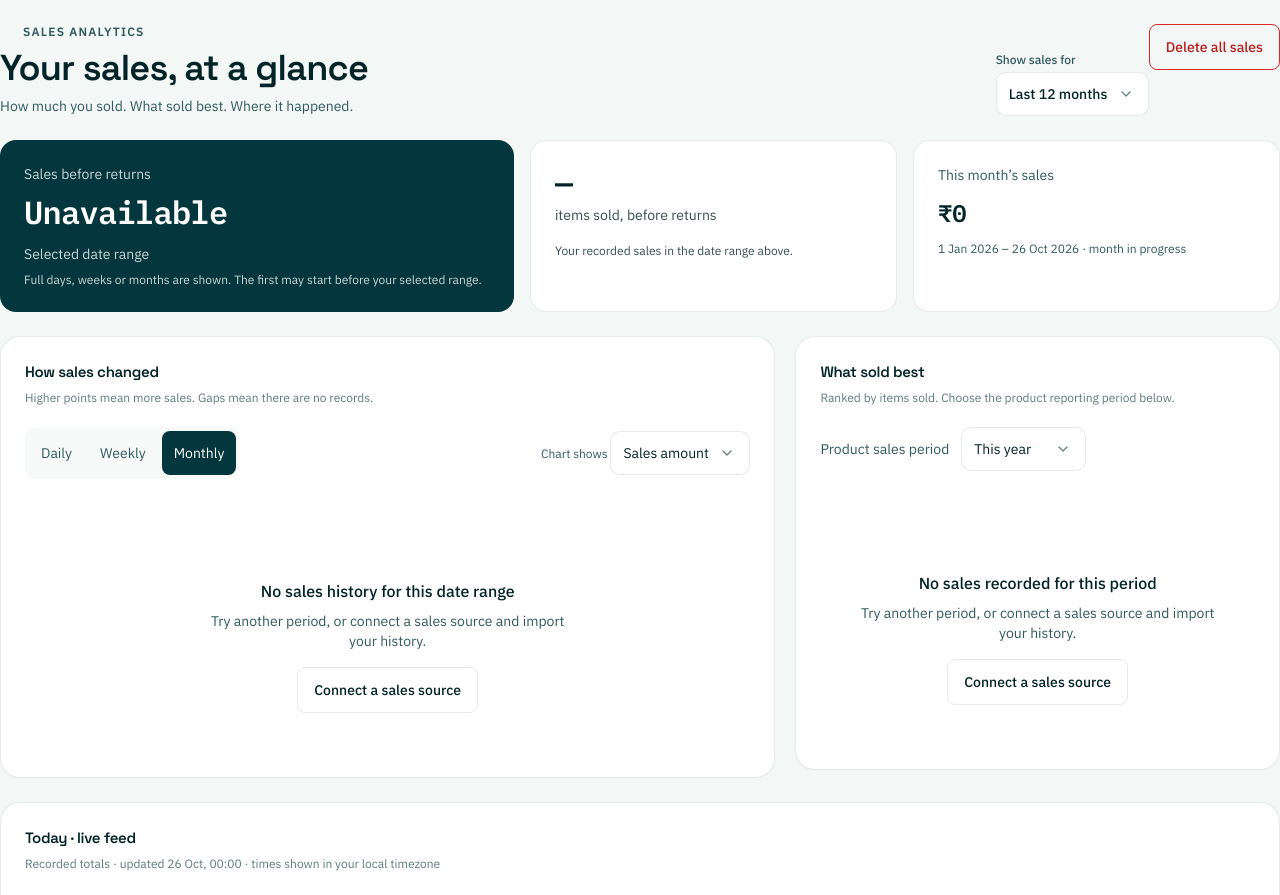
it: shows deletion errors inside the confirmation
What coordinates should you click on to do the following:
click the button "Delete all sales"
I would click on:
 (1214, 47)
Its box is left=1149, top=24, right=1279, bottom=70.
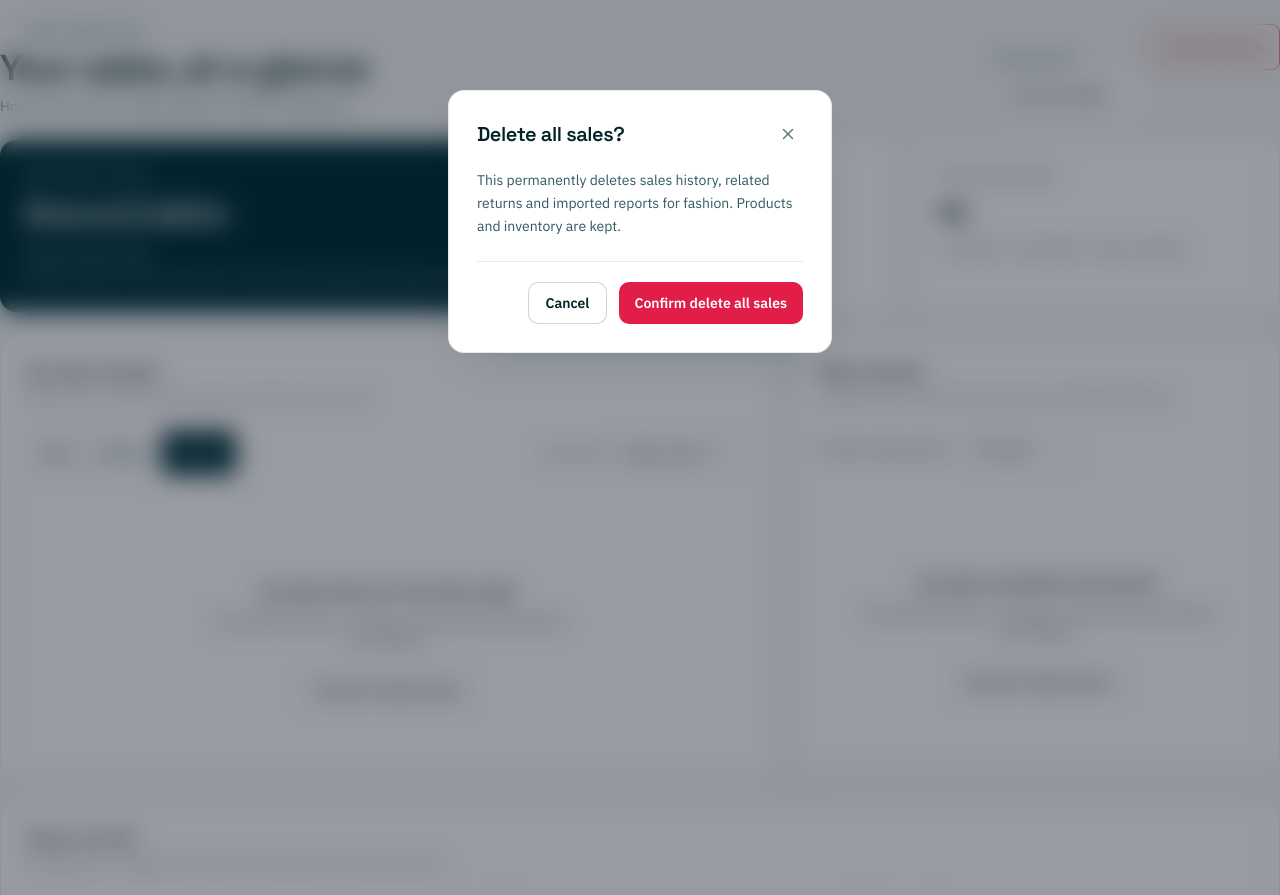
What coordinates should you click on to do the following:
click the button "Confirm delete all sales"
I would click on:
 (711, 303)
Its box is left=618, top=282, right=803, bottom=324.
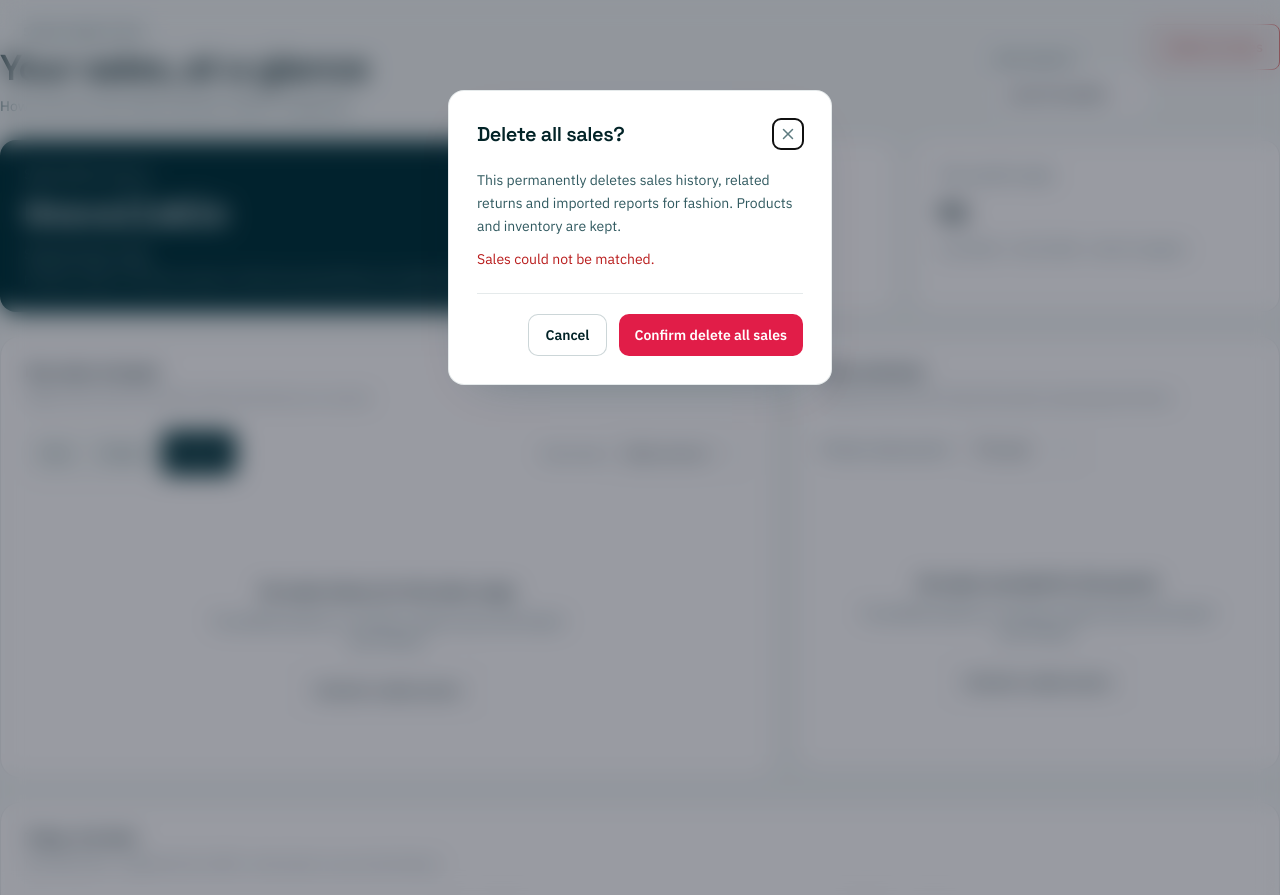
Expected: the text "Sales could not be matched." is shown, left=477, top=250, right=654, bottom=268
